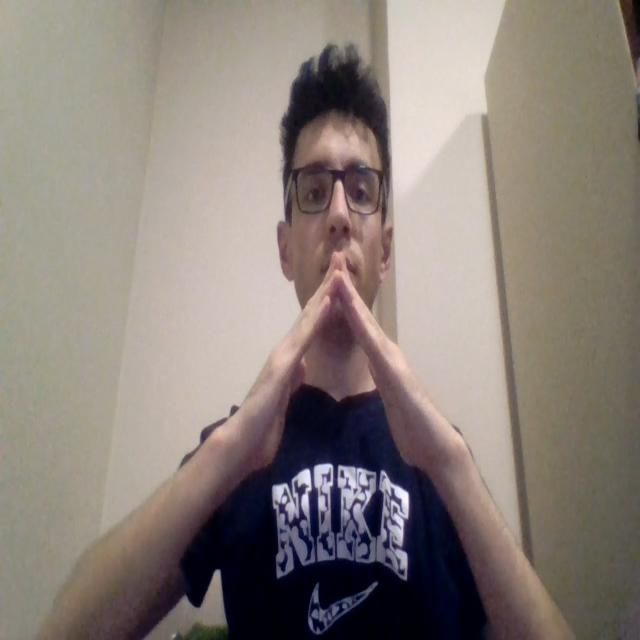house: (238, 252, 444, 473)
